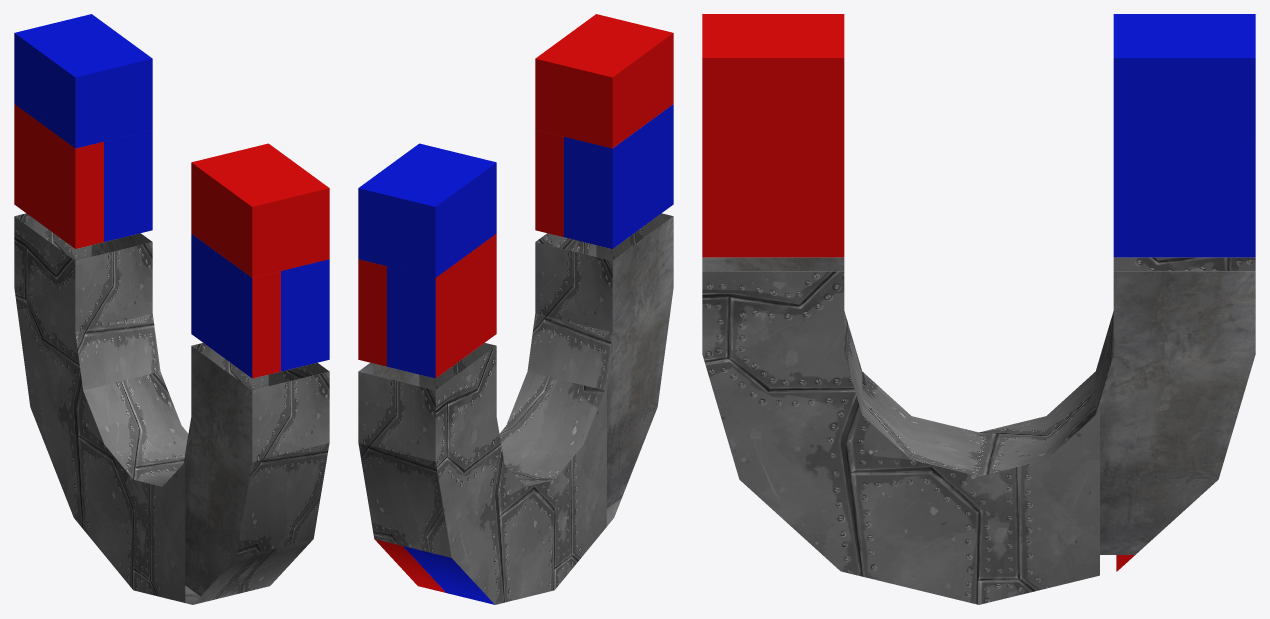
The model's file is Magnet.FBX.
The picture shows the model from 3 angles, left to right: view 1: azimuth 30°, elevation 25°; view 2: azimuth 150°, elevation 25°; view 3: azimuth 270°, elevation 25°; orthographic projection. The views are drawn at different scales.
Visible parts, largest first — view 1: Magnet; view 2: Magnet; view 3: Magnet.
Boxes of the visible parts, left/top/right/bottom form: Magnet: left=14, top=14, right=329, bottom=604; Magnet: left=358, top=14, right=673, bottom=604; Magnet: left=702, top=14, right=1255, bottom=604.
Bounding box in the file's own units: 2.24 × 13.04 × 11.95.
1 material, 1 textured.
